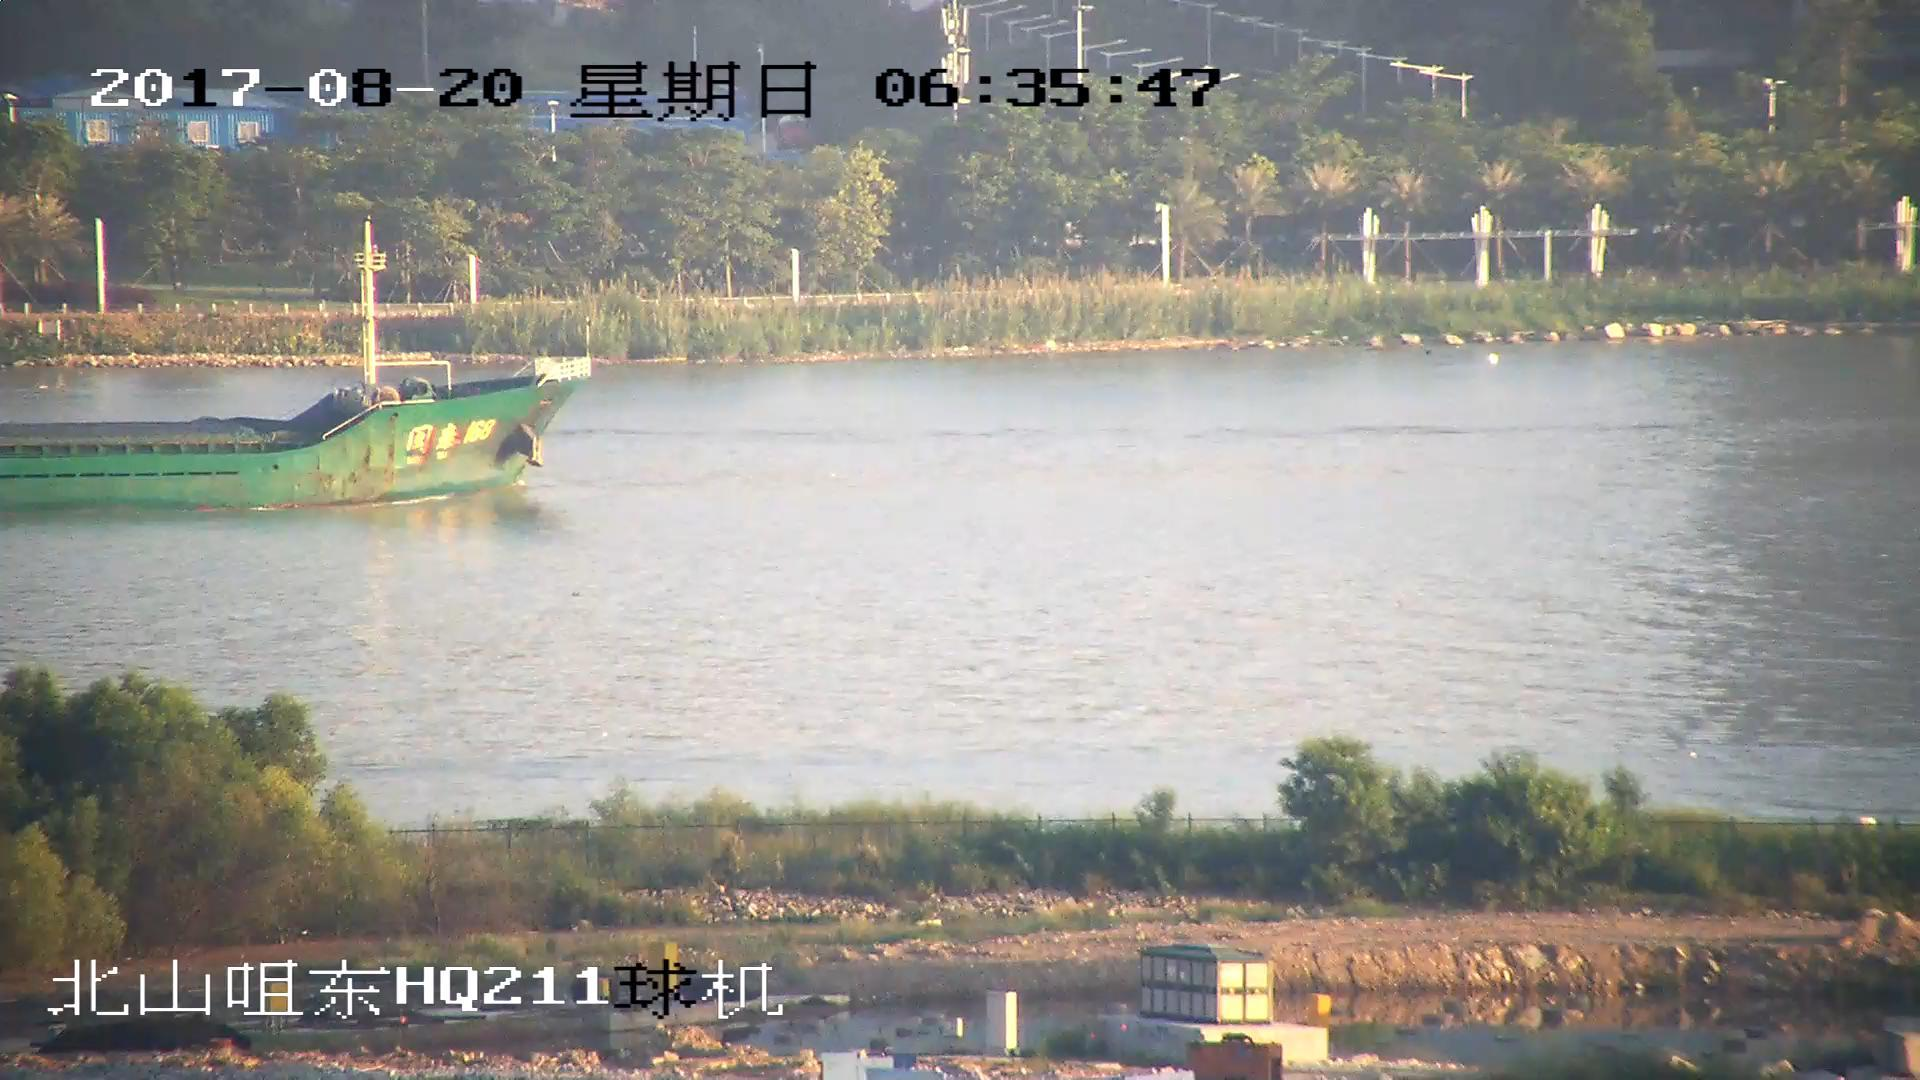Ship: (3, 239, 582, 524)
